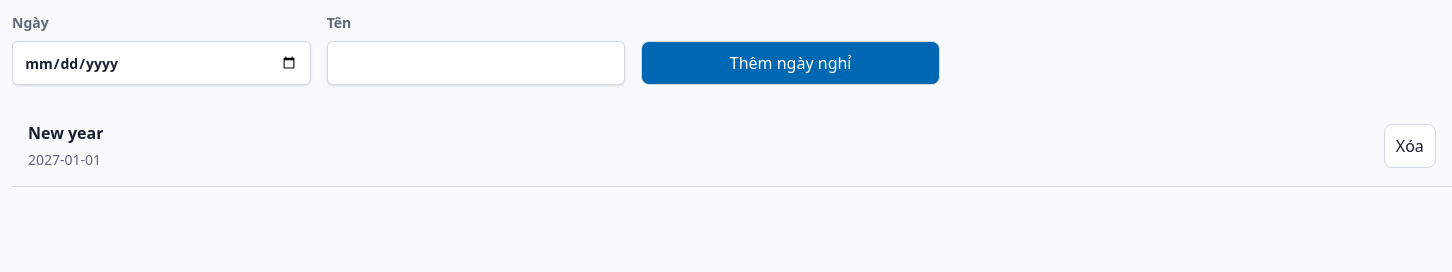
Test: HolidayManager › confirms delete and refreshes a missing target
The width and height of the screenshot is (1452, 272).
Click the button "Xóa" at (1410, 146), box [1384,124,1436,168]
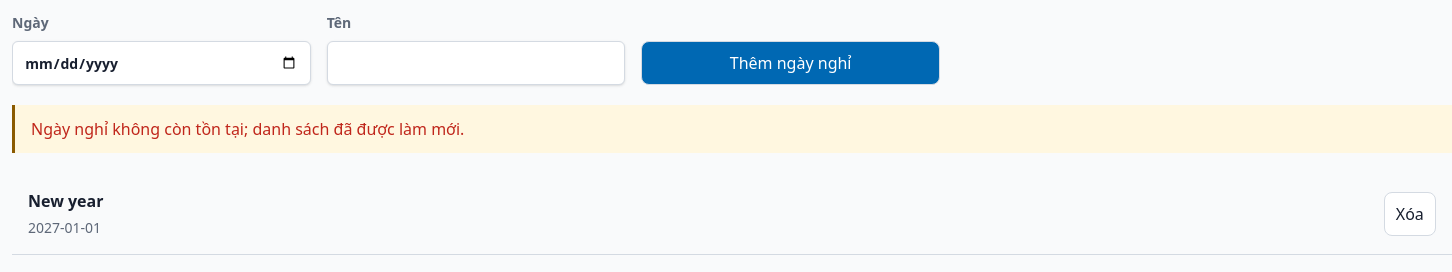
Expected: the message shows "danh sách đã được làm mới", [31,118,464,140]
